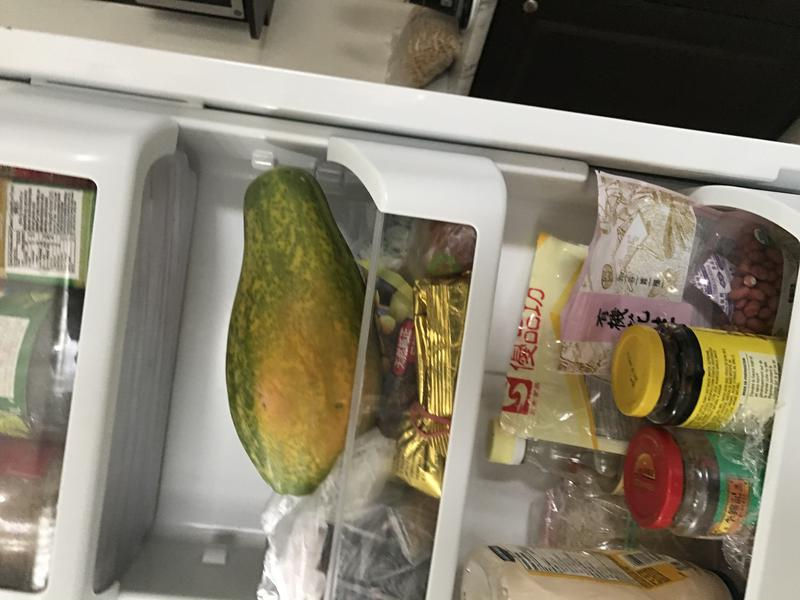papaya: (213, 158, 383, 509)
